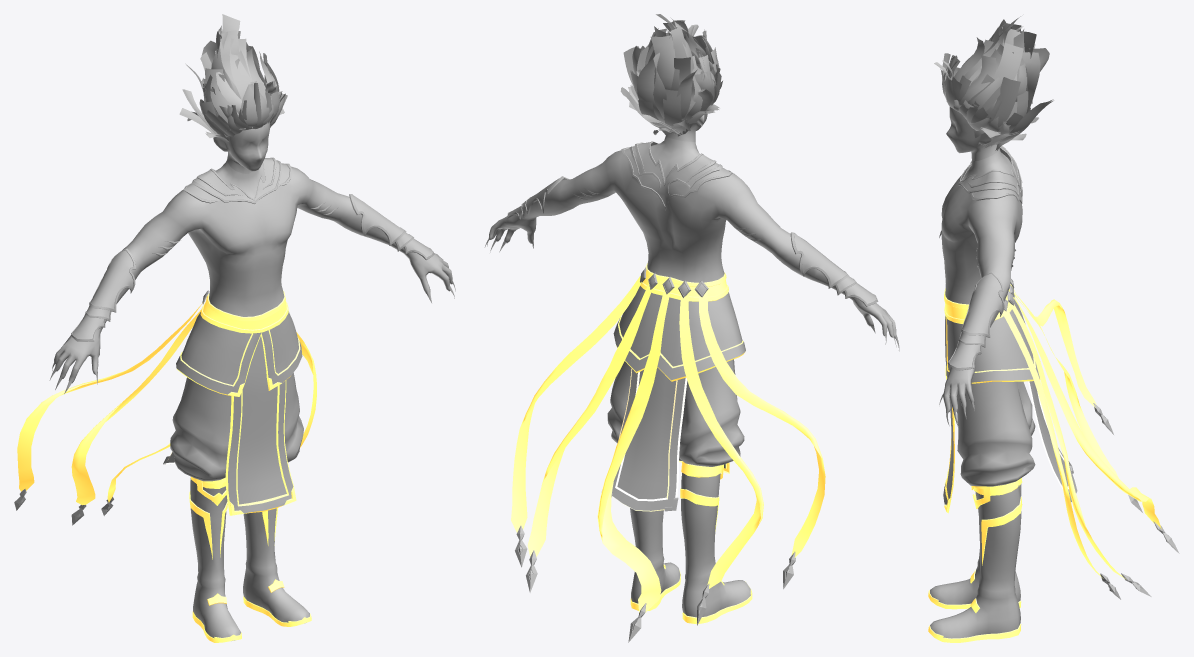
File: H_01736_Hair_02_EditMesh.fbx
3 renders of one model, left to right at view 1: azimuth 30°, elevation 25°; view 2: azimuth 150°, elevation 25°; view 3: azimuth 270°, elevation 25°, orthographic. The views are drawn at different scales.
Visible parts, largest first — view 1: Bottom, Top, Shoe, Hair.001, Hair, Face, Hair.002; view 2: Bottom, Top, Shoe, Hair.001, Hair, Hair.002; view 3: Bottom, Top, Shoe, Hair.001, Hair, Face, Hair.002.
Boxes of the visible parts, <box> form: Bottom: <box>14,290,316,525</box>; Top: <box>49,157,455,393</box>; Shoe: <box>189,476,311,642</box>; Hair.001: <box>185,14,278,137</box>; Hair: <box>179,53,287,144</box>; Face: <box>213,122,269,173</box>; Hair.002: <box>180,53,286,137</box>; Bottom: <box>511,263,825,642</box>; Top: <box>484,136,899,351</box>; Shoe: <box>630,461,752,624</box>; Hair.001: <box>632,14,716,123</box>; Hair: <box>620,25,722,136</box>; Hair.002: <box>621,24,720,134</box>; Bottom: <box>943,279,1179,599</box>; Top: <box>939,146,1022,426</box>; Shoe: <box>928,478,1022,642</box>; Hair.001: <box>954,16,1049,144</box>; Hair: <box>942,53,1053,150</box>; Face: <box>946,106,998,160</box>; Hair.002: <box>934,53,1053,150</box>.
Size of the model in its own units: 291 by 406 by 153.
